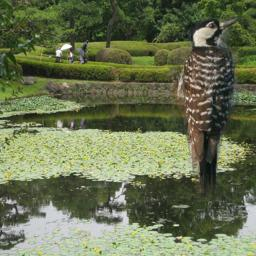Woodpecker: (160, 17, 244, 208)
